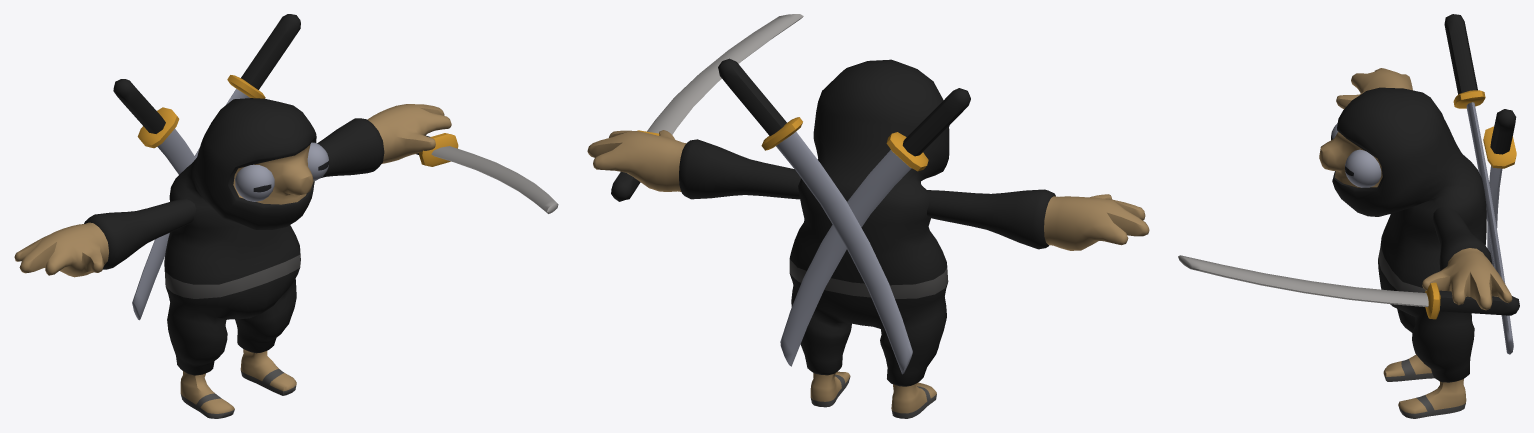
File: Ninja.fbx
The picture shows the model from 3 angles, left to right: view 1: azimuth 30°, elevation 25°; view 2: azimuth 150°, elevation 25°; view 3: azimuth 270°, elevation 25°; orthographic projection. The views are drawn at different scales.
Parts seen in each view (by area): view 1: Ninja; view 2: Ninja; view 3: Ninja.
Part boxes in pixels (<box>): Ninja: <box>14,14,558,418</box>; Ninja: <box>587,14,1149,418</box>; Ninja: <box>1178,14,1519,418</box>.
Size of the model in its own units: 456 by 302 by 282.
